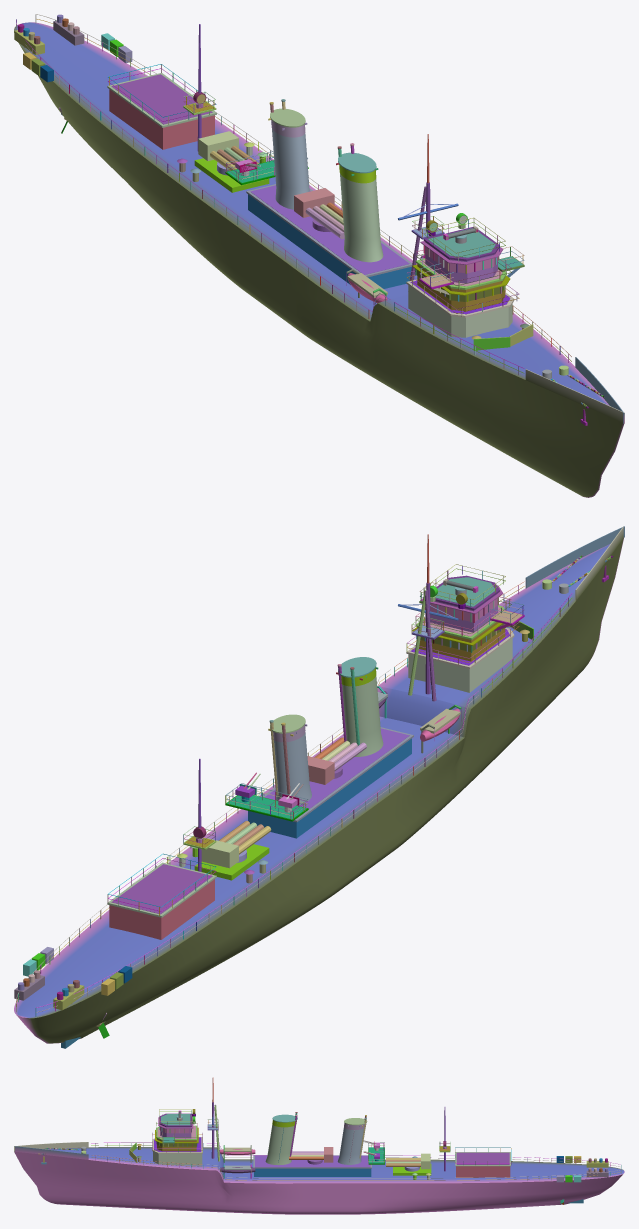
3 renders of one model, top to bottom at view 1: azimuth 30°, elevation 25°; view 2: azimuth 150°, elevation 25°; view 3: azimuth 270°, elevation 25°, orthographic. The views are drawn at different scales.
Visible parts, largest first — view 1: hull; view 2: hull; view 3: hull.
Part boxes in pixels (left/top/right/bottom): hull: left=14, top=14, right=624, bottom=497; hull: left=14, top=526, right=624, bottom=1048; hull: left=14, top=1077, right=624, bottom=1214.
Size of what is drawn, in the model's own units: 10.46 by 25.7 by 112.
